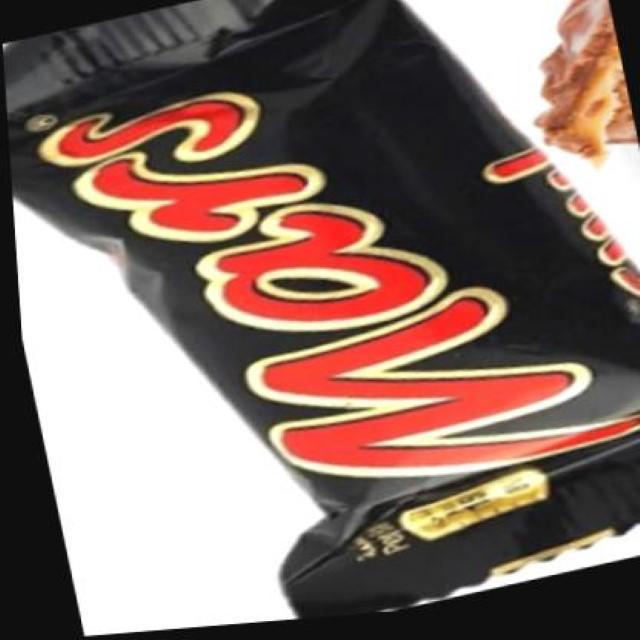mars_chocolate: (61, 33, 639, 640)
